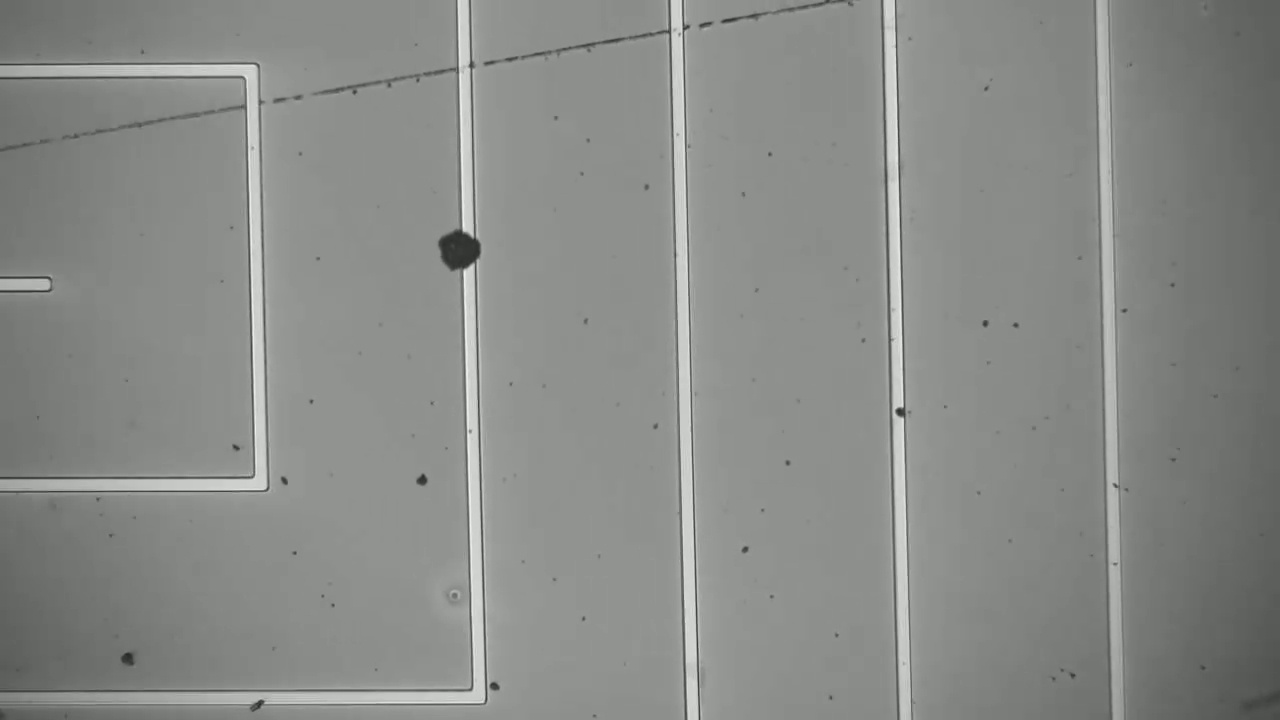scratch: (0, 8, 821, 152)
stains_enbedded: (427, 225, 493, 292), (244, 687, 269, 714), (887, 404, 917, 425)
